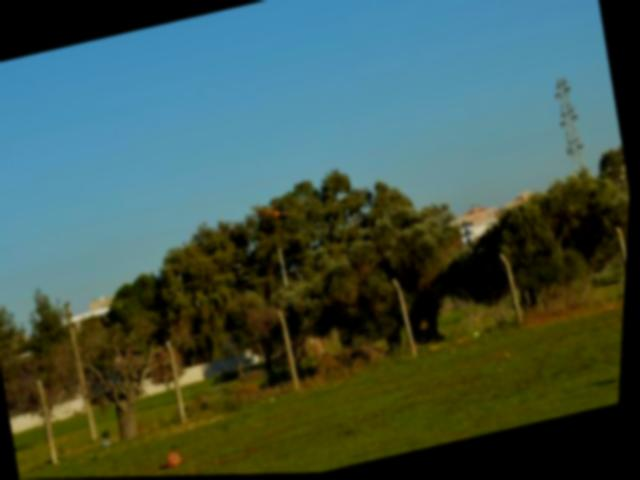iha: (251, 198, 299, 226)
